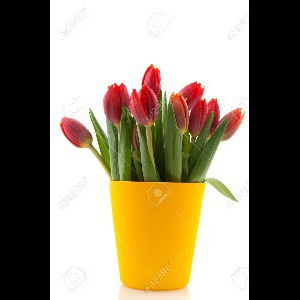flowerpot: (107, 173, 206, 291)
